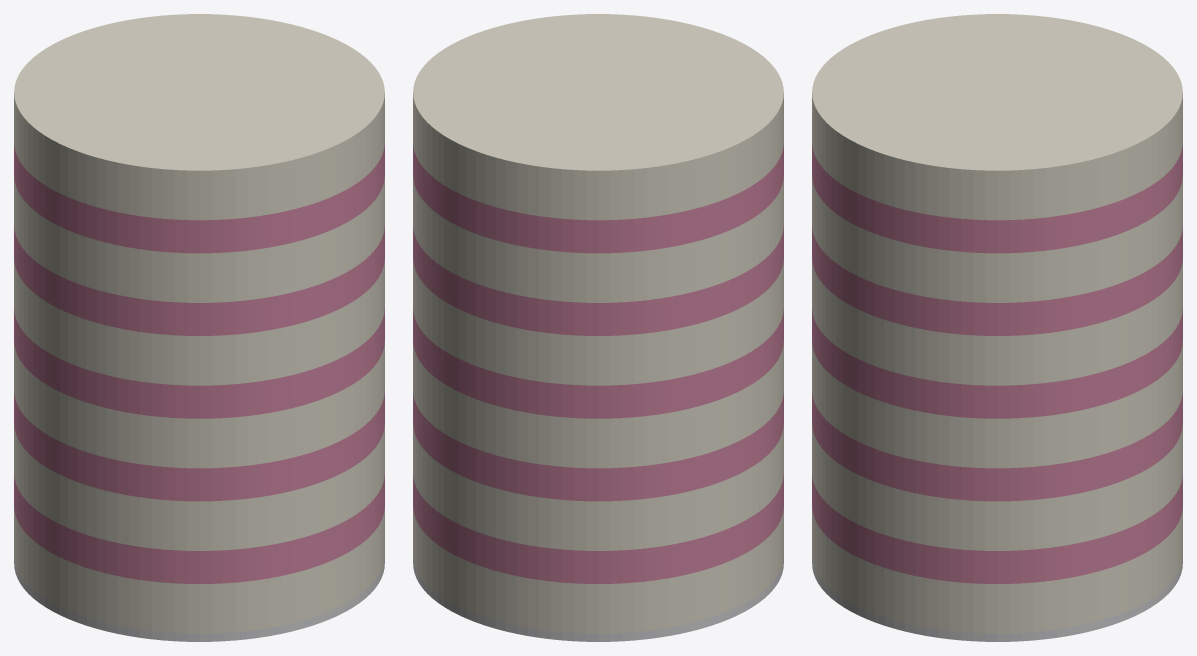
File: cake_8in_layers6.glb
3 renders of one model, left to right at view 1: azimuth 30°, elevation 25°; view 2: azimuth 150°, elevation 25°; view 3: azimuth 270°, elevation 25°, orthographic.
Visible parts, largest first — view 1: geometry_10, geometry_4, geometry_0, geometry_6, geometry_8, geometry_2, geometry_5, geometry_9, geometry_3, geometry_7, geometry_1, geometry_11; view 2: geometry_10, geometry_4, geometry_0, geometry_6, geometry_8, geometry_2, geometry_5, geometry_9, geometry_3, geometry_7, geometry_1, geometry_11; view 3: geometry_10, geometry_4, geometry_0, geometry_6, geometry_8, geometry_2, geometry_5, geometry_9, geometry_3, geometry_7, geometry_1, geometry_11.
Boxes of the visible parts, bbox=[...] form: geometry_10: bbox=[14, 14, 384, 220]; geometry_4: bbox=[14, 341, 384, 468]; geometry_0: bbox=[14, 506, 384, 633]; geometry_6: bbox=[14, 258, 384, 385]; geometry_8: bbox=[14, 176, 384, 302]; geometry_2: bbox=[14, 424, 384, 550]; geometry_5: bbox=[14, 308, 384, 418]; geometry_9: bbox=[14, 143, 384, 253]; geometry_3: bbox=[14, 391, 384, 501]; geometry_7: bbox=[14, 225, 384, 335]; geometry_1: bbox=[14, 473, 384, 583]; geometry_11: bbox=[14, 556, 384, 641]; geometry_10: bbox=[413, 14, 783, 220]; geometry_4: bbox=[413, 341, 783, 468]; geometry_0: bbox=[413, 506, 783, 633]; geometry_6: bbox=[413, 258, 783, 385]; geometry_8: bbox=[413, 176, 783, 302]; geometry_2: bbox=[413, 424, 783, 550]; geometry_5: bbox=[413, 308, 783, 418]; geometry_9: bbox=[413, 143, 783, 253]; geometry_3: bbox=[413, 391, 783, 501]; geometry_7: bbox=[413, 225, 783, 335]; geometry_1: bbox=[413, 473, 783, 583]; geometry_11: bbox=[413, 556, 783, 641]; geometry_10: bbox=[812, 14, 1182, 220]; geometry_4: bbox=[812, 341, 1182, 468]; geometry_0: bbox=[812, 506, 1182, 633]; geometry_6: bbox=[812, 258, 1182, 385]; geometry_8: bbox=[812, 176, 1182, 302]; geometry_2: bbox=[812, 424, 1182, 550]; geometry_5: bbox=[812, 308, 1182, 418]; geometry_9: bbox=[812, 143, 1182, 253]; geometry_3: bbox=[812, 391, 1182, 501]; geometry_7: bbox=[812, 225, 1182, 335]; geometry_1: bbox=[812, 473, 1182, 583]; geometry_11: bbox=[812, 556, 1182, 641].
Size of the model in its own units: 0.2032 by 0.285 by 0.2032.
